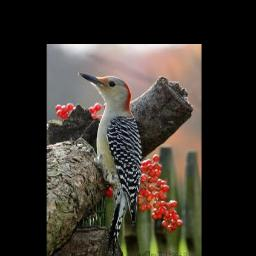Woodpecker: (74, 68, 142, 256)
